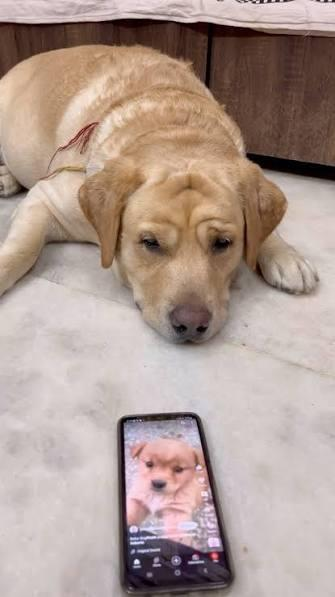adult_dog: (0, 43, 320, 346)
puppy-dog: (127, 437, 207, 537)
